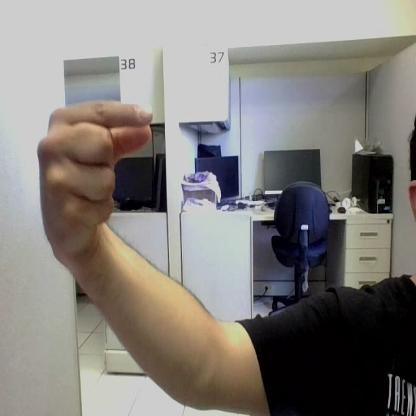G: (38, 100, 152, 252)
